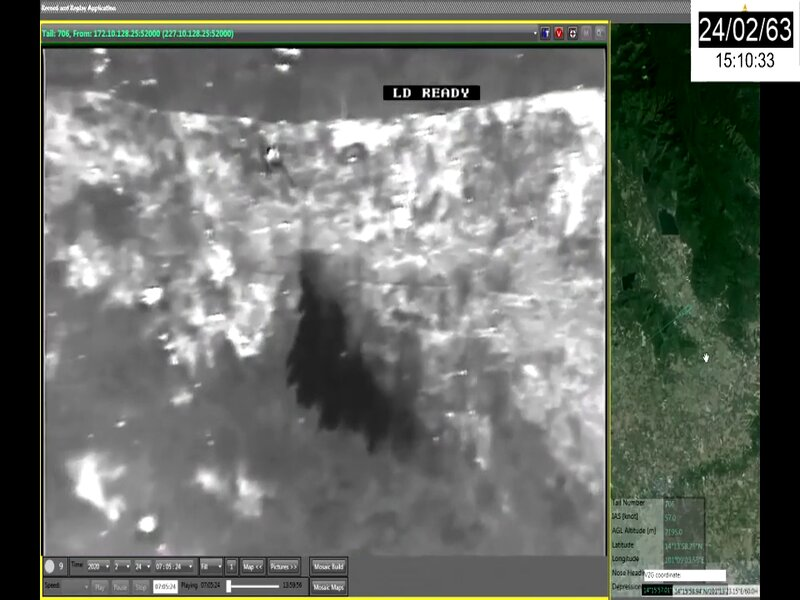Fire: (333, 88, 603, 242)
